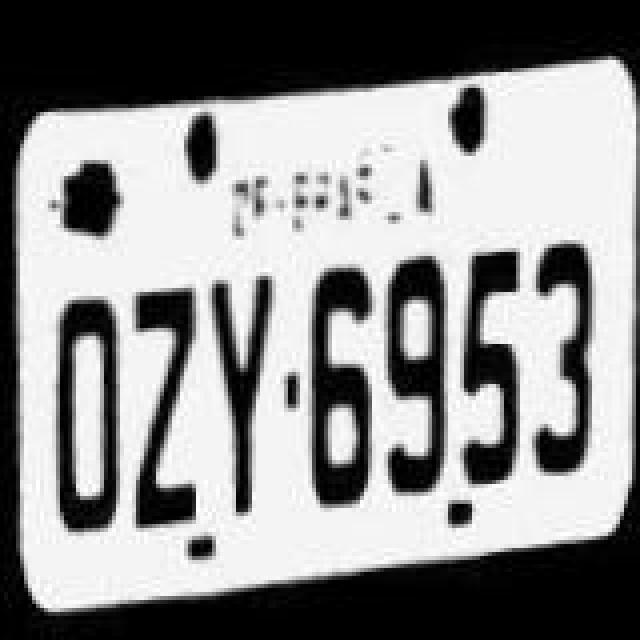3: (520, 224, 604, 488)
5: (444, 224, 532, 496)
6: (300, 254, 380, 518)
9: (380, 244, 452, 504)
O: (48, 278, 140, 546)
Y: (200, 260, 280, 532)
Z: (128, 276, 212, 544)
